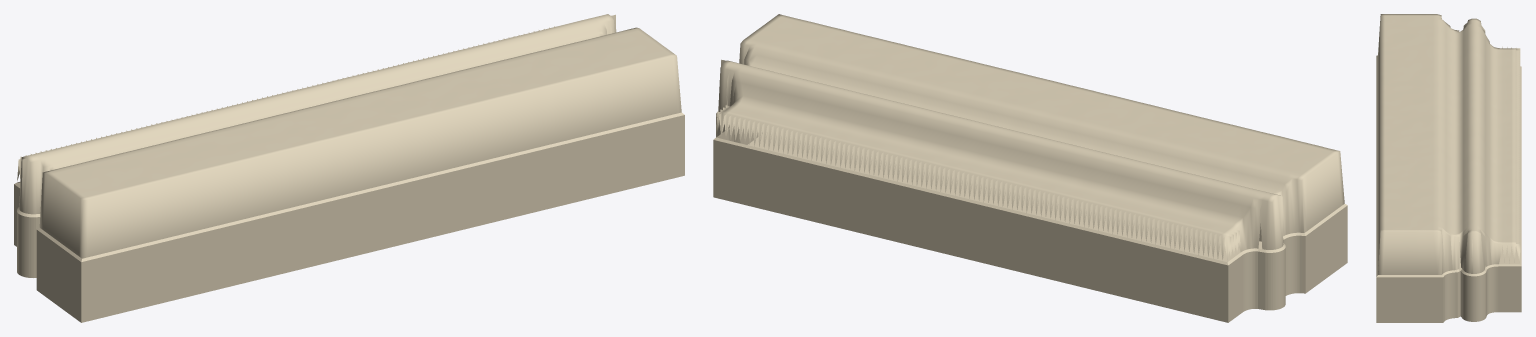
Rendered from mahsulot.glb.
3 renders of one model, left to right at view 1: azimuth 30°, elevation 25°; view 2: azimuth 150°, elevation 25°; view 3: azimuth 270°, elevation 25°, orthographic. The views are drawn at different scales.
Parts seen in each view (by area): view 1: mahsulot; view 2: mahsulot; view 3: mahsulot.
Boxes of the visible parts, box(x1,y1,x2,y2) form: mahsulot: box(14, 14, 684, 322); mahsulot: box(713, 14, 1347, 322); mahsulot: box(1376, 14, 1521, 322).
Bounding box in the file's own units: 0.45 × 0.0849 × 0.125.
